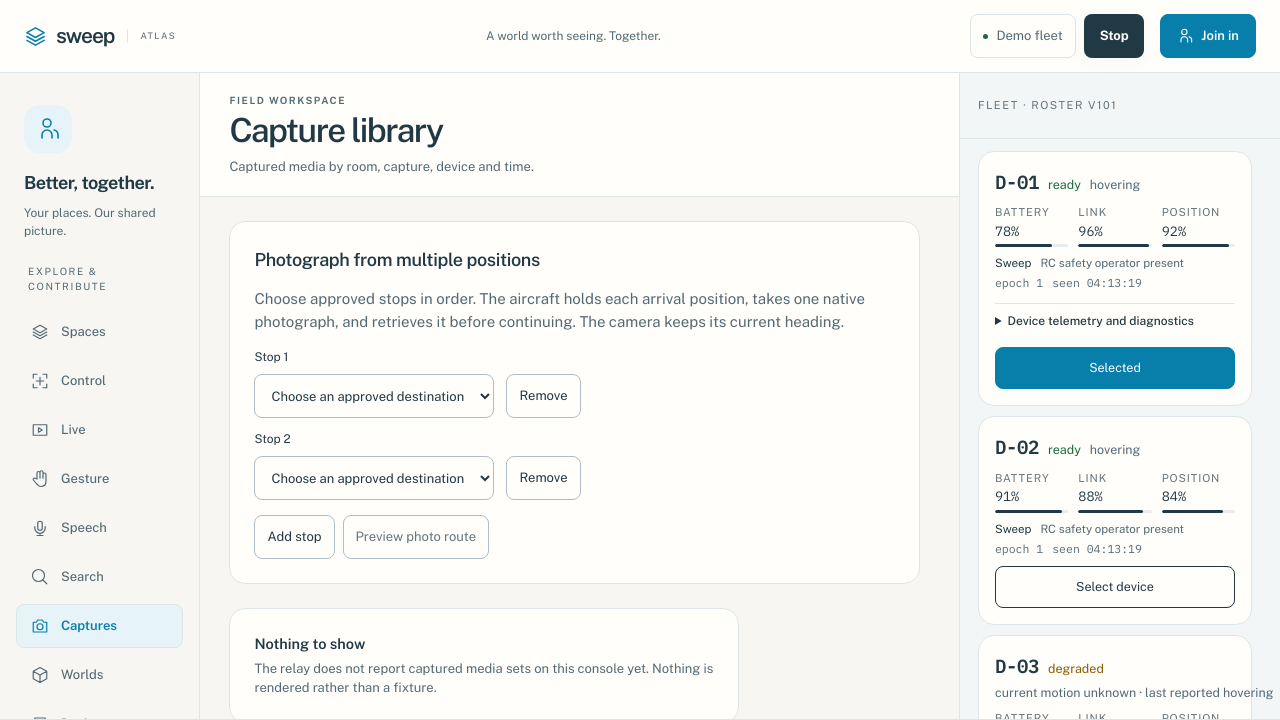
Test: shows ordered movement before confirming and reports retrieved photographs
Select "lobby" in the dropdown named "Photo stop 1" at (374, 396), box [254,374,494,418]
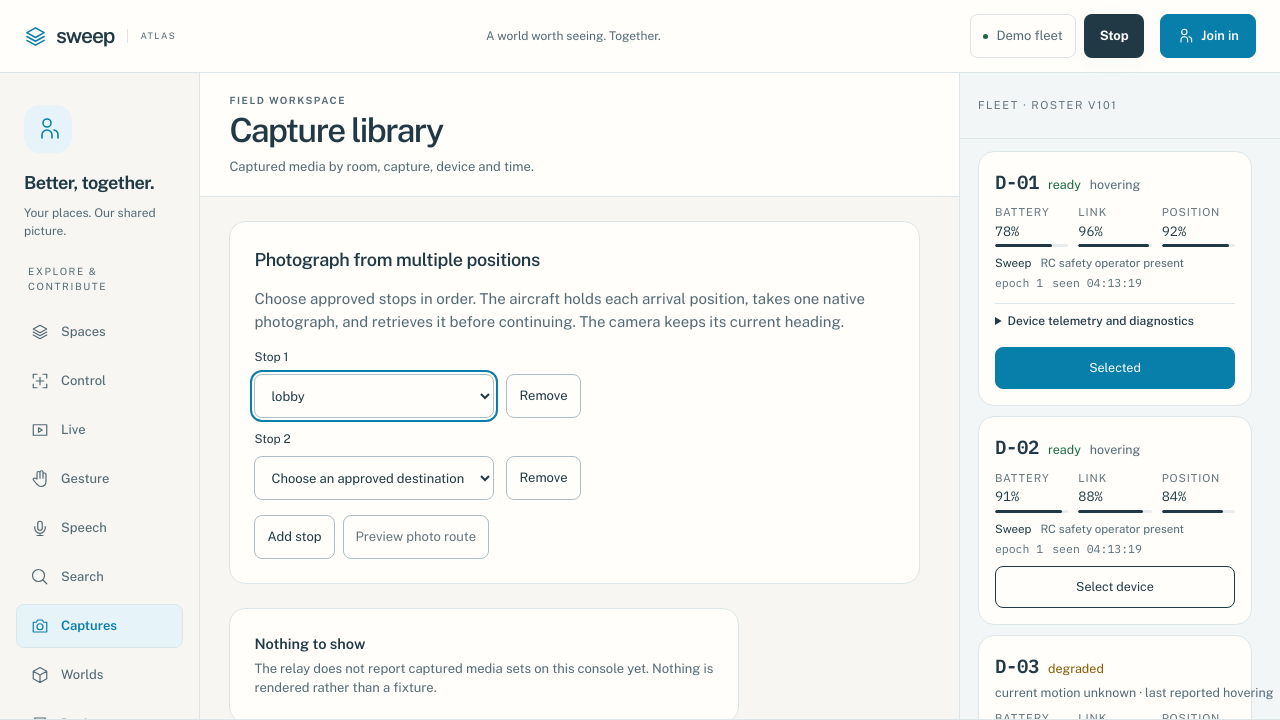
Select "atrium" in the dropdown named "Photo stop 2" at (374, 478), box [254,456,494,500]
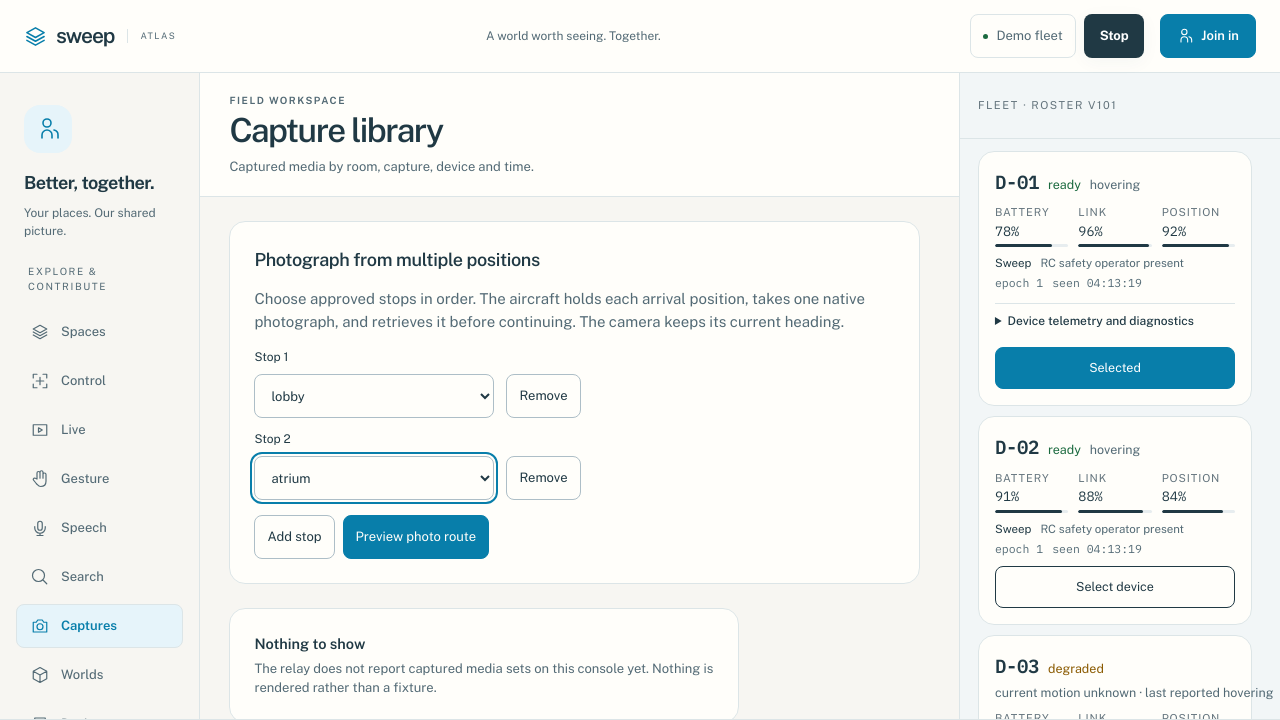
Click the button "Preview photo route".
click(416, 537)  # box [343,515,489,559]
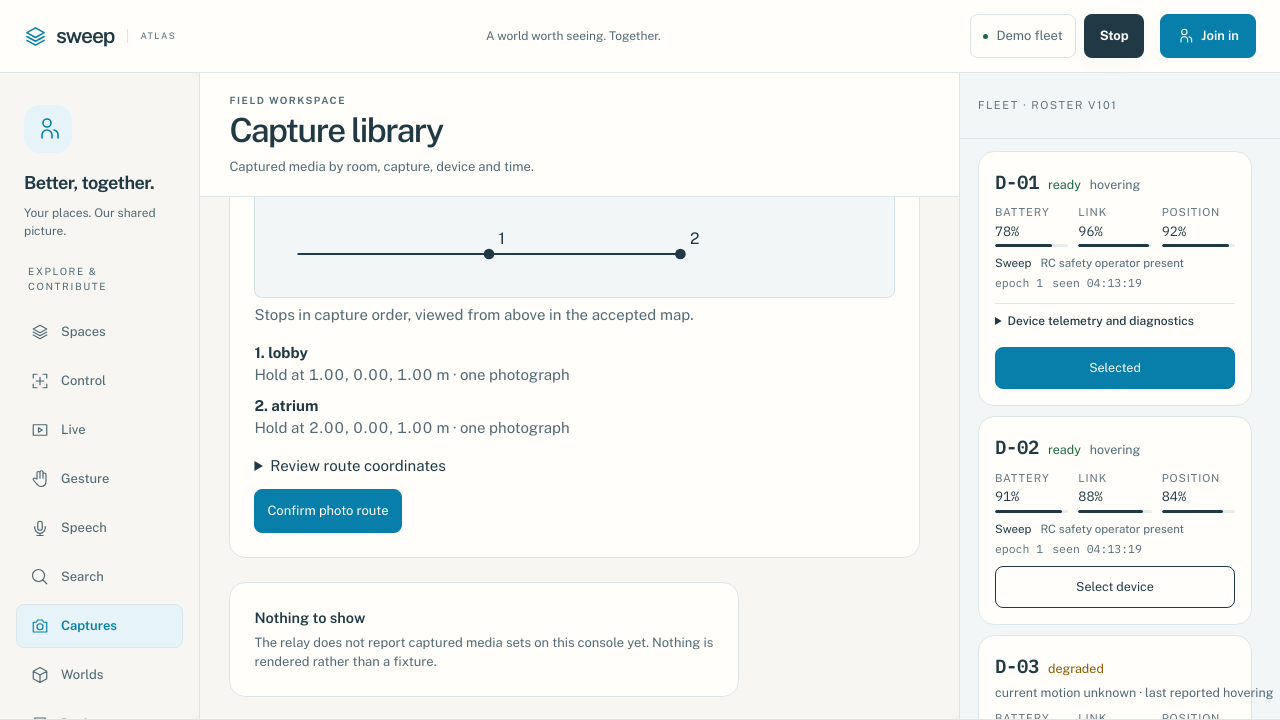
Now the element named "Photo route review" shows "Hold at 2.00, 0.00, 1.00 m", box [254,197,894,533]
Click the button "Confirm photo route".
click(328, 511)  # box [254,489,402,533]
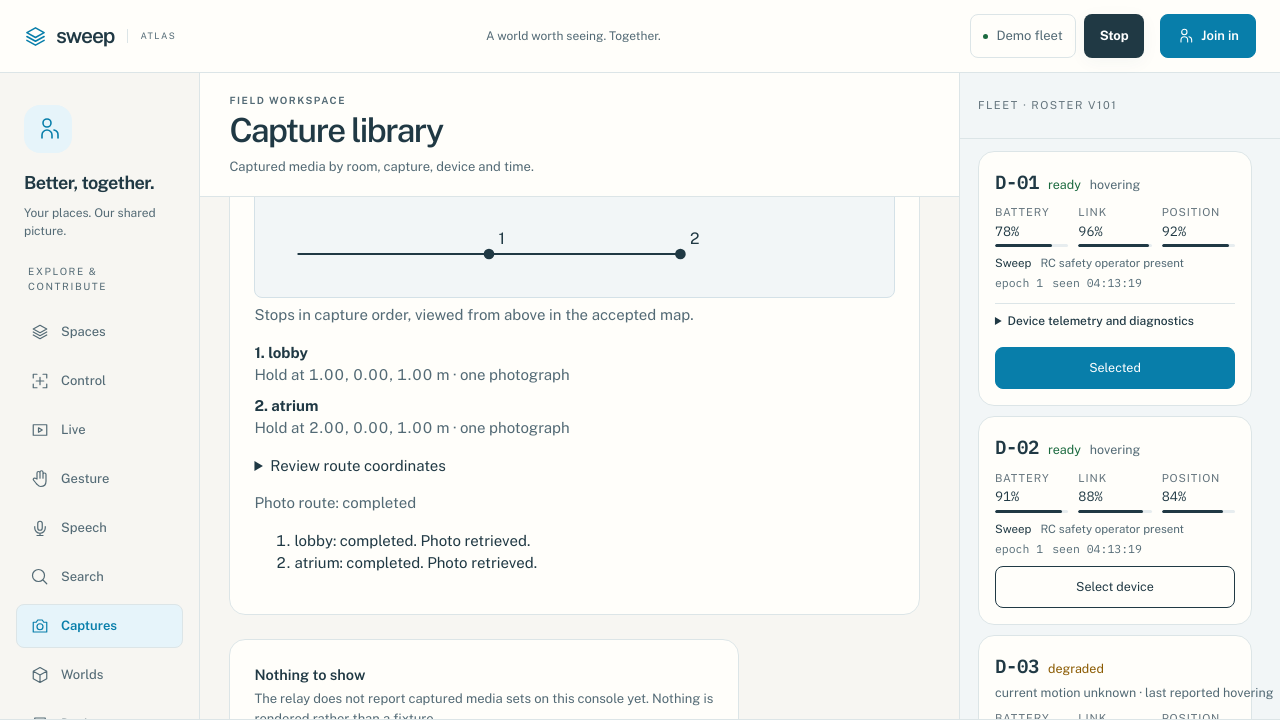
Now the text "Photo route: completed" is shown, box [254,494,416,511]
Now the number of list items "lobby: completed. Photo retrieved." is 2, box [294,532,530,549]; [294,554,537,571]
